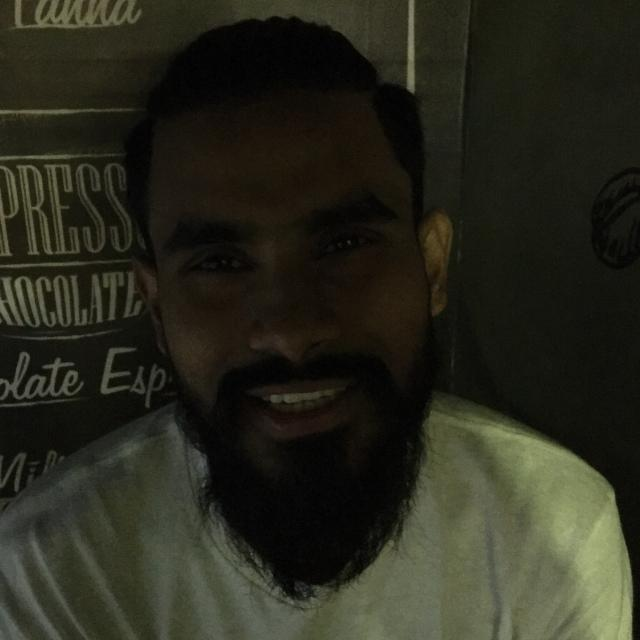happy: (112, 107, 503, 593)
